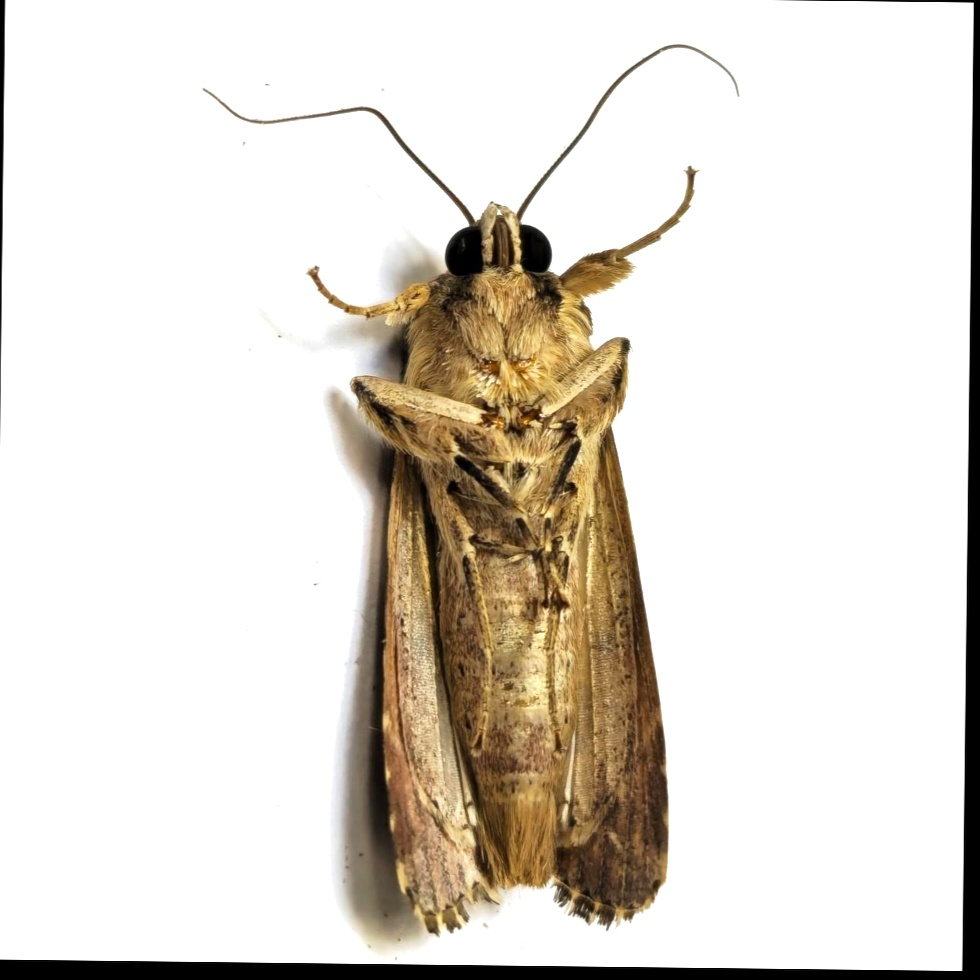Spodoptera litura: (198, 40, 735, 937)
